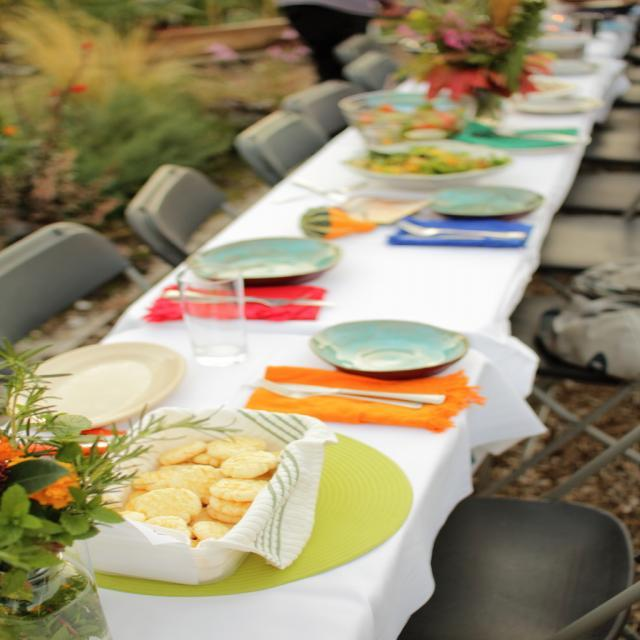ceramic plate: (268, 305, 525, 386), (21, 334, 182, 452), (200, 233, 304, 321)
